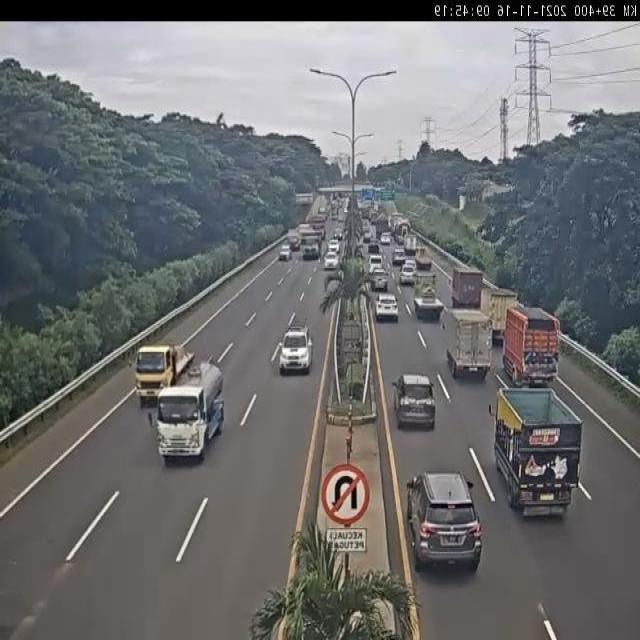Car: (406, 471, 484, 571), (392, 372, 437, 430), (279, 321, 315, 374), (374, 292, 398, 322), (400, 264, 416, 285), (372, 272, 388, 292), (323, 250, 339, 270), (393, 248, 405, 265), (279, 244, 291, 260), (367, 239, 379, 254), (328, 239, 340, 254), (380, 232, 391, 245), (394, 231, 404, 245), (333, 228, 343, 242), (363, 229, 371, 243)
Truck: (487, 387, 585, 522), (146, 357, 226, 464), (500, 305, 561, 388), (127, 342, 196, 407), (441, 307, 495, 382), (480, 286, 520, 342), (412, 272, 447, 321), (451, 268, 483, 308), (300, 230, 324, 260), (392, 215, 412, 242), (412, 246, 433, 271), (308, 213, 326, 240), (374, 213, 391, 241), (286, 227, 302, 251), (404, 236, 417, 256)
Van: (368, 253, 383, 274)
